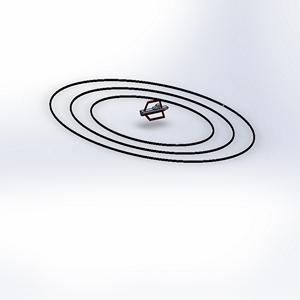circle: (45, 71, 264, 170)
submarine: (134, 96, 176, 128)
